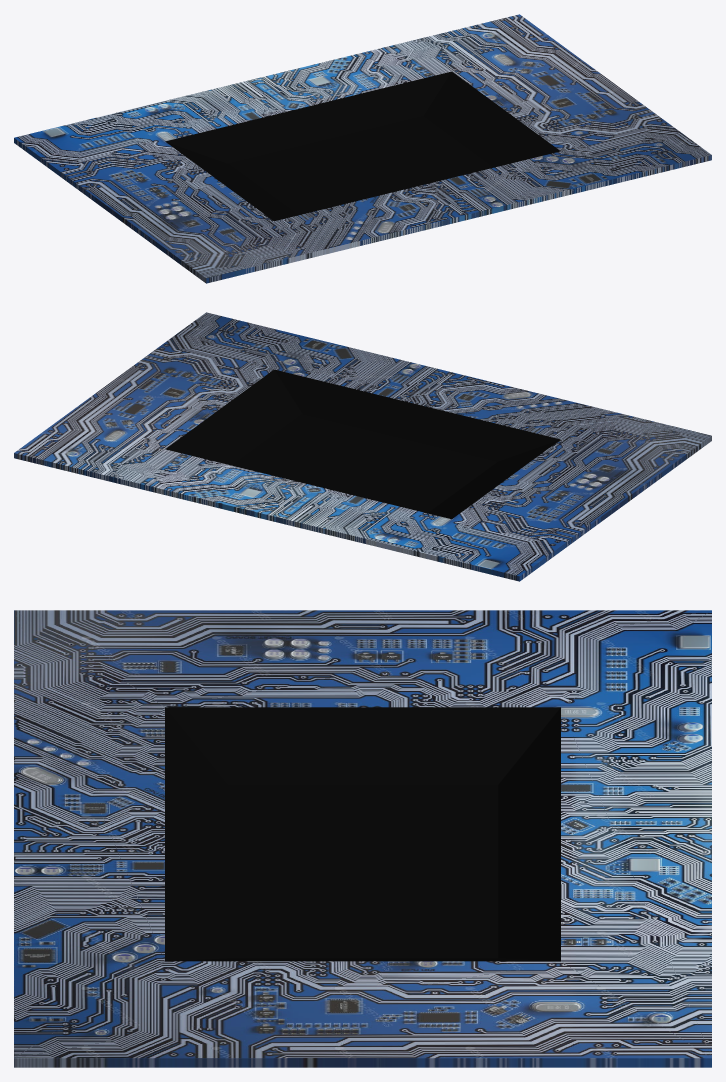
Rendered from WaterFloorBeta4.fbx.
3 views of the same model, one above another, from view 1: azimuth 30°, elevation 25°; view 2: azimuth 150°, elevation 25°; view 3: azimuth 270°, elevation 25° (orthographic). The views are drawn at different scales.
Visible parts, largest first — view 1: polySurface6; view 2: polySurface6; view 3: polySurface6.
Boxes of the visible parts, x1,y1,x2,y2 form: polySurface6: [14, 14, 711, 283]; polySurface6: [14, 312, 711, 581]; polySurface6: [14, 610, 711, 1067].
Size of the model in its own units: 19.16 by 0.7459 by 12.62.
